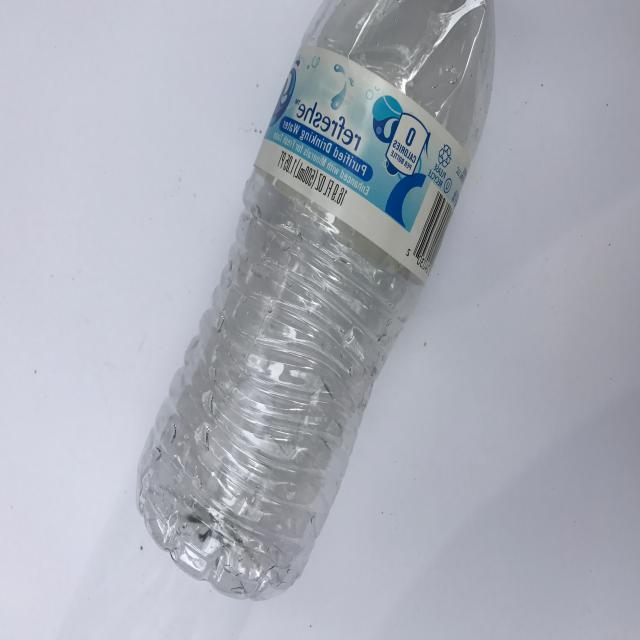plastic: (136, 0, 497, 602)
